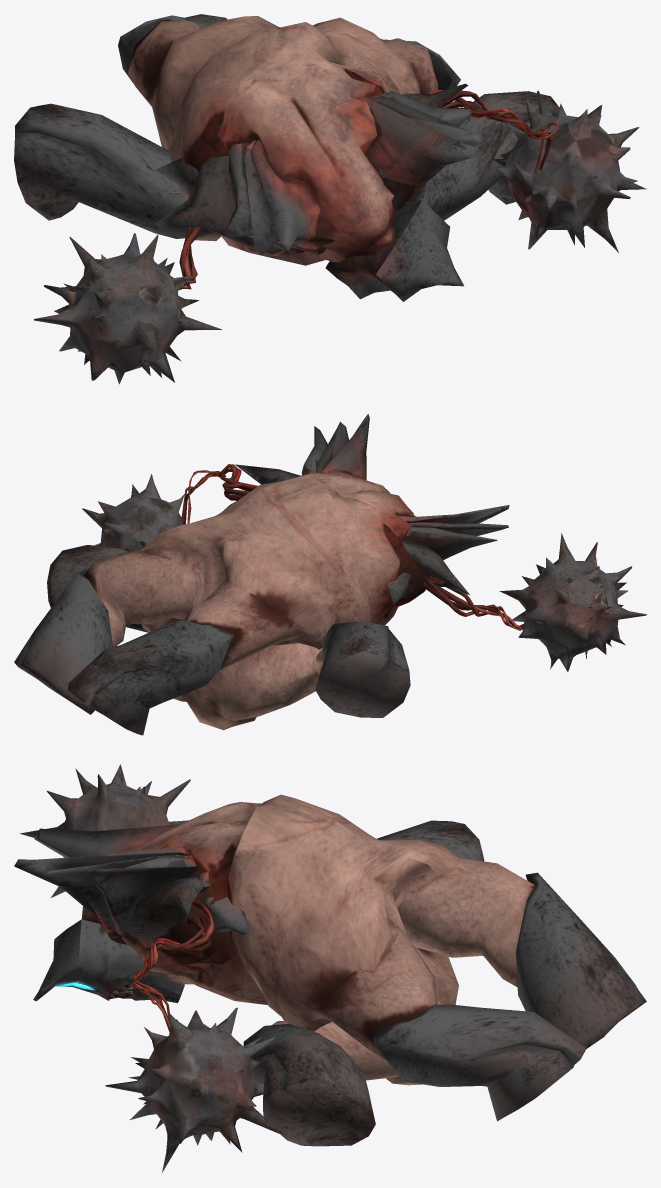
The model's file is FatGuyDead2_LOD2.fbx.
The picture shows the model from 3 angles, top to bottom: view 1: azimuth 30°, elevation 25°; view 2: azimuth 150°, elevation 25°; view 3: azimuth 270°, elevation 25°; orthographic projection. The views are drawn at different scales.
Parts seen in each view (by area): view 1: FatGuyDead2_LOD2; view 2: FatGuyDead2_LOD2; view 3: FatGuyDead2_LOD2.
Part boxes in pixels (x1=…): FatGuyDead2_LOD2: x1=14, y1=14, x2=646, y2=384; FatGuyDead2_LOD2: x1=14, y1=414, x2=646, y2=735; FatGuyDead2_LOD2: x1=14, y1=764, x2=646, y2=1172.
Size of the model in its own units: 5.33 by 2.02 by 4.55.
